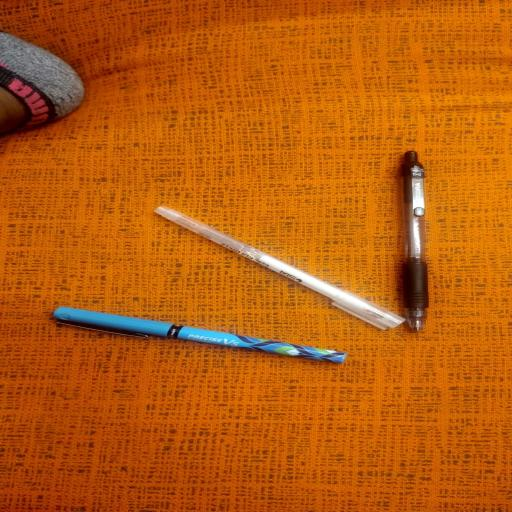pen: (155, 207, 404, 329), (54, 307, 346, 363), (403, 151, 428, 332)
